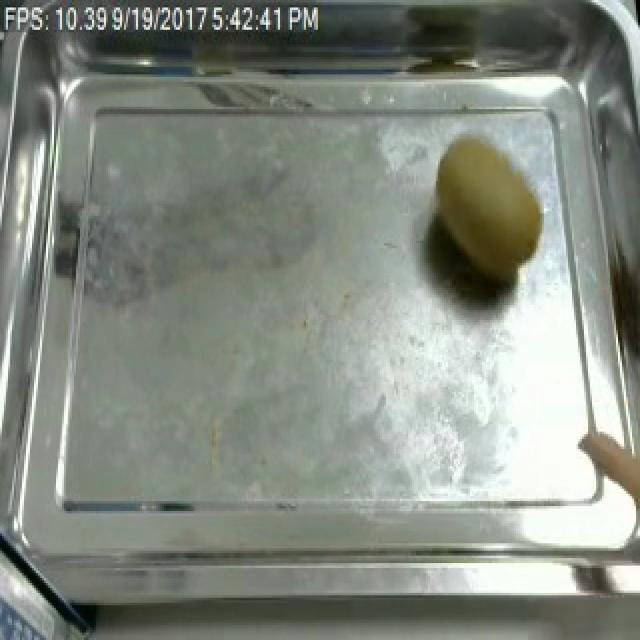Fruit: (418, 124, 558, 303)
